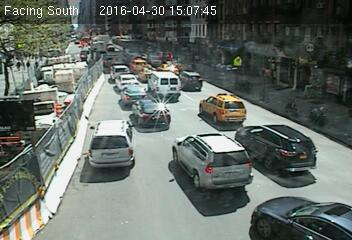neg: (268, 56, 280, 72), (215, 49, 227, 65), (307, 41, 318, 56), (313, 78, 322, 91), (343, 86, 351, 100)
